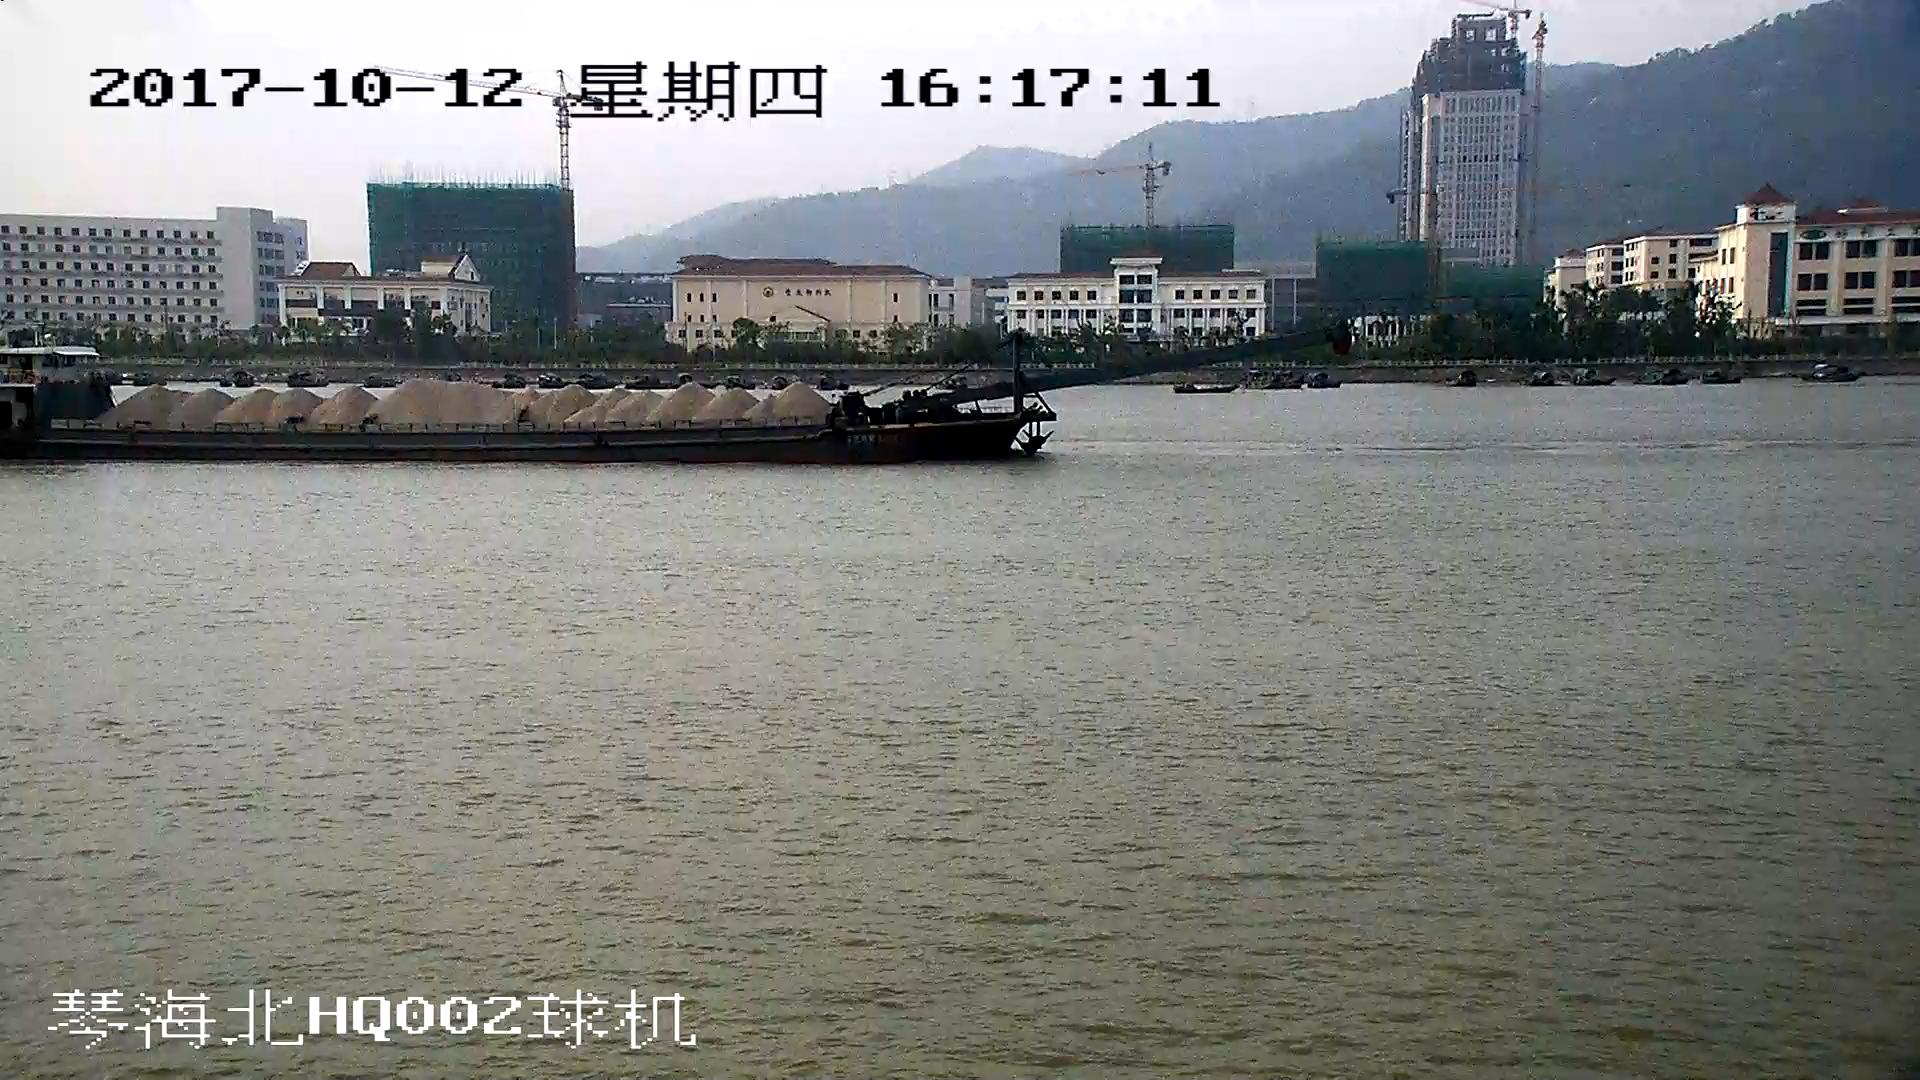ore carrier: (1, 324, 1349, 463)
